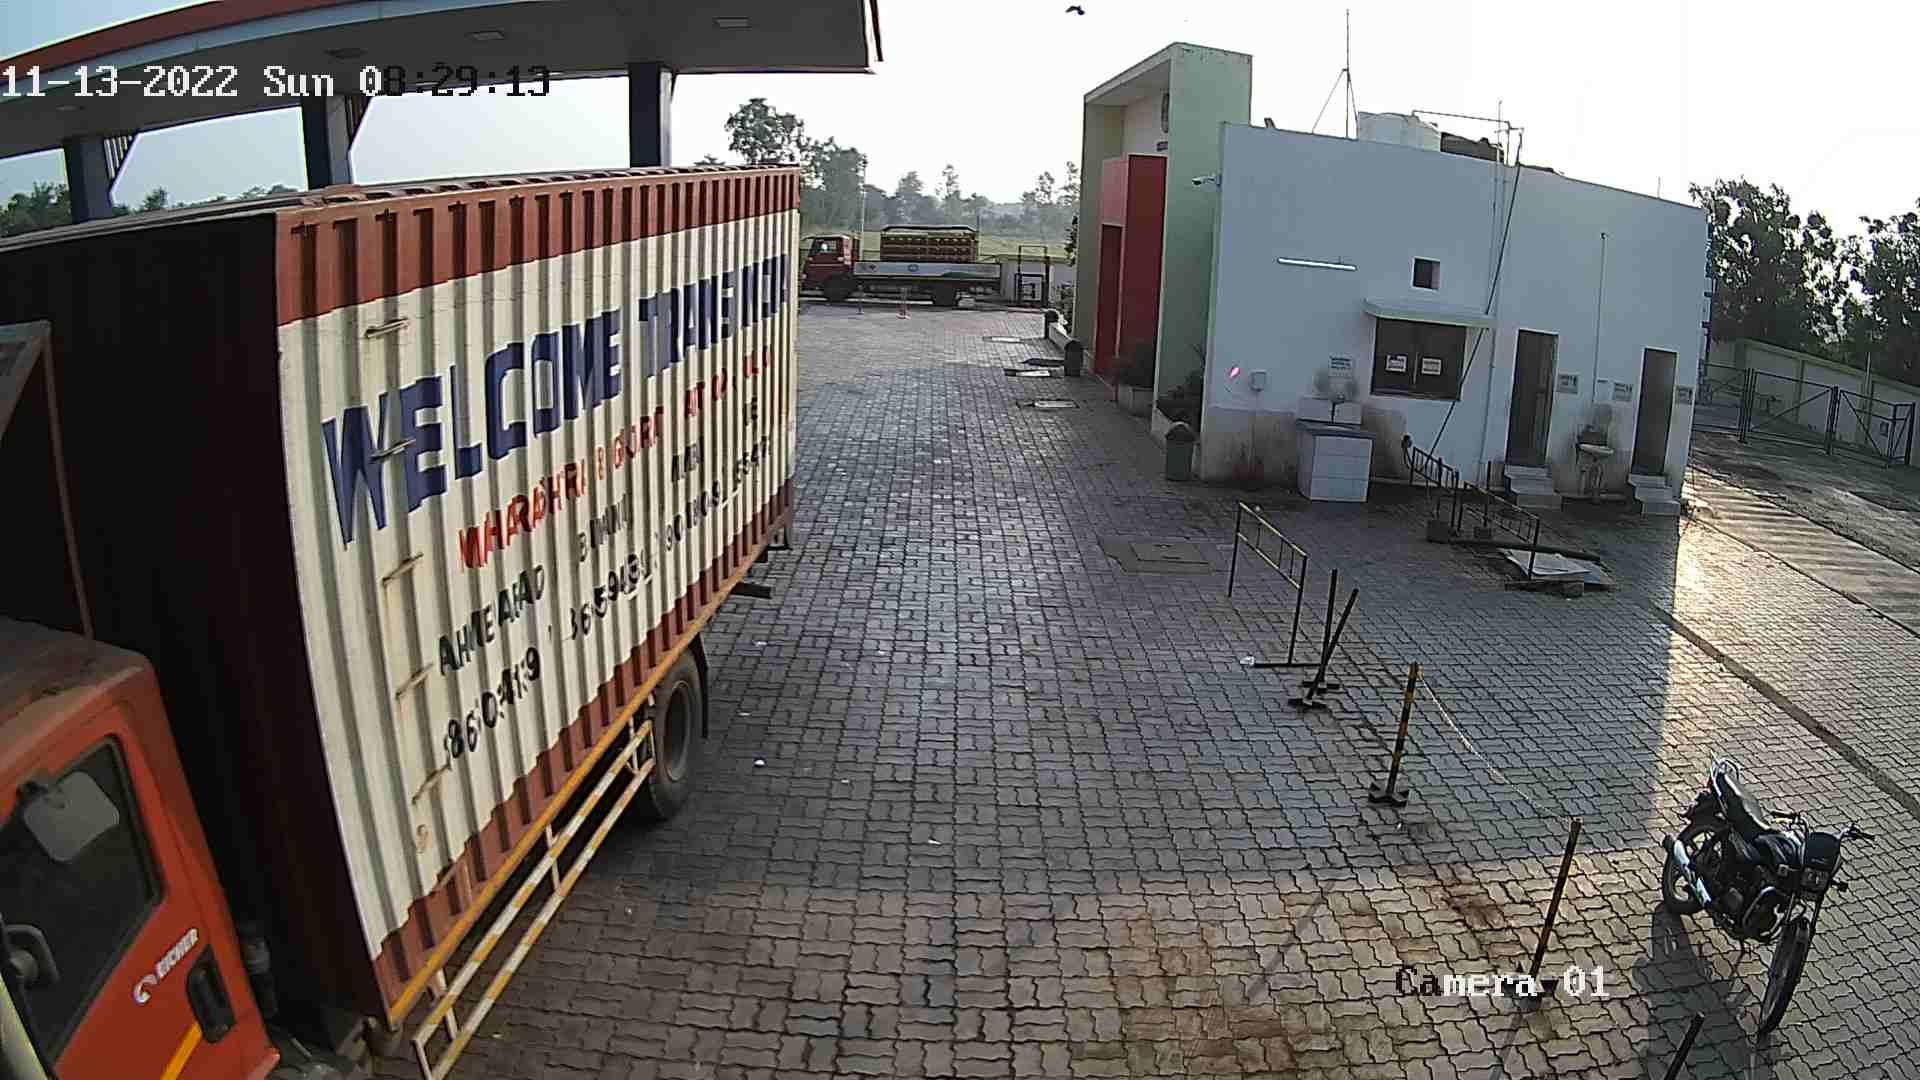Bike: (1640, 753, 1883, 1043)
HMV: (1, 135, 825, 1076), (789, 220, 1014, 309)
